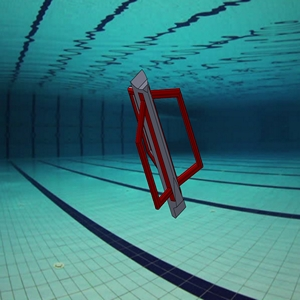submarine: (101, 67, 222, 222)
